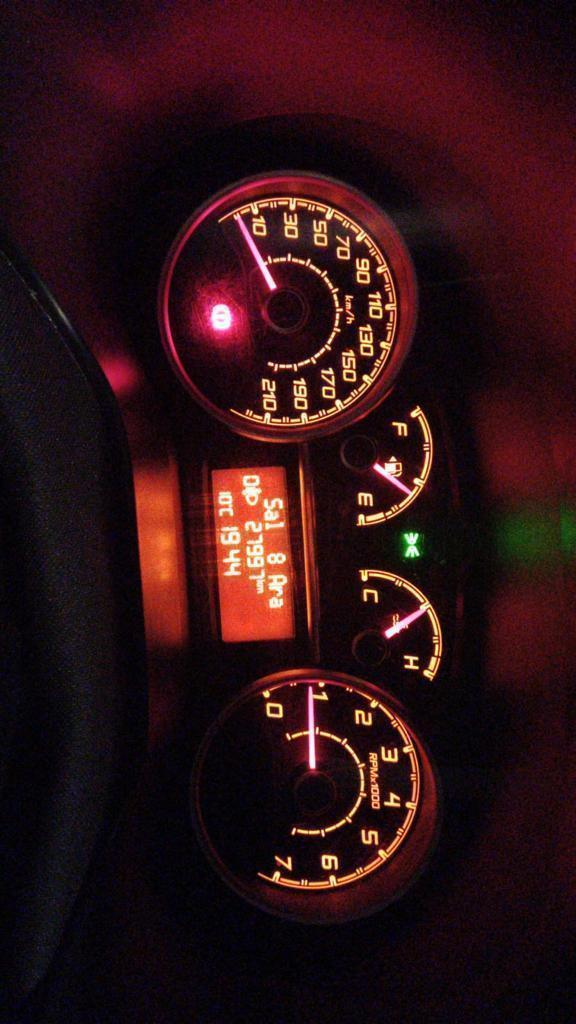0: (241, 474, 260, 486), (216, 495, 234, 504)
1: (218, 525, 240, 531), (216, 489, 233, 495)
2: (244, 519, 262, 533)
4: (222, 562, 240, 577), (222, 548, 241, 562)
7: (247, 568, 264, 579), (245, 533, 263, 543)
8: (265, 551, 287, 565)
9: (217, 531, 240, 545), (218, 531, 240, 545), (244, 543, 264, 555), (246, 556, 264, 569)
X: (262, 496, 293, 509), (266, 573, 288, 586), (263, 520, 286, 531), (266, 586, 283, 597), (266, 598, 284, 608), (262, 509, 278, 520), (216, 508, 234, 517), (254, 586, 264, 595), (254, 579, 266, 586)
odometer: (207, 462, 301, 646)
